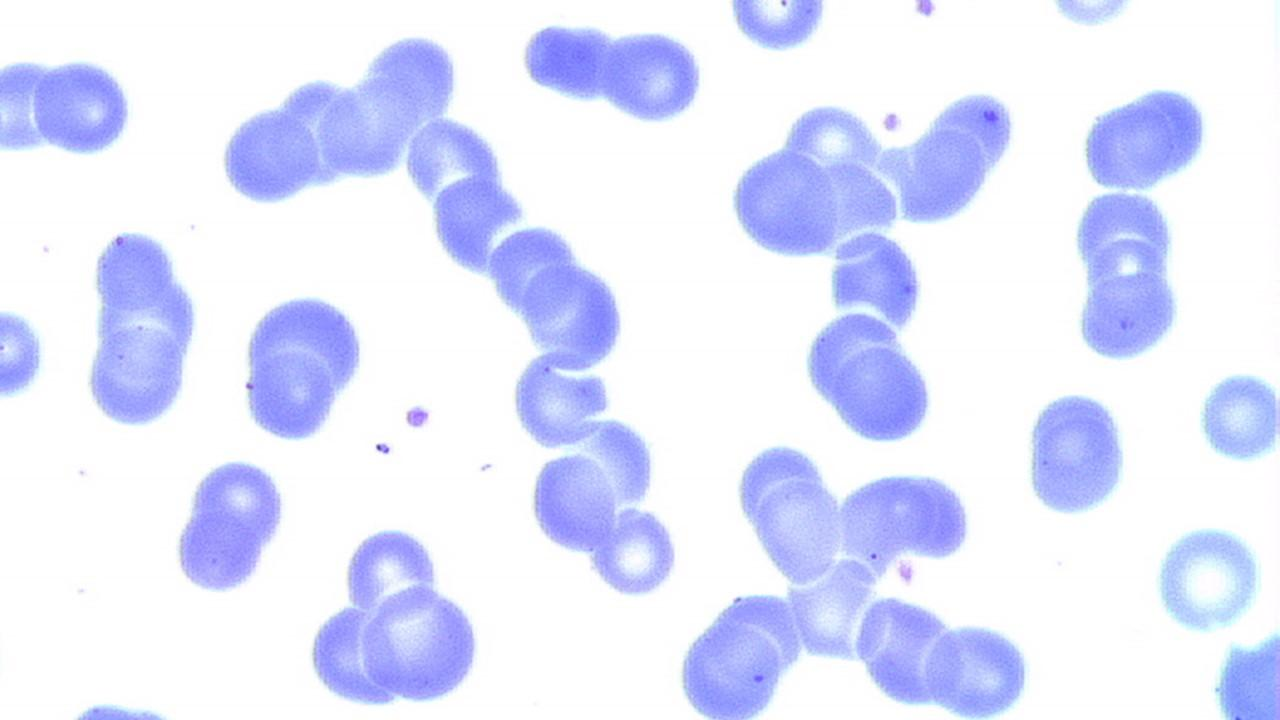Platelets: (0, 305, 48, 403), (1040, 1, 1138, 31), (57, 694, 168, 718), (400, 400, 434, 433), (910, 0, 942, 23), (880, 107, 904, 136), (374, 441, 395, 456)
WBC: (46, 30, 683, 720), (650, 432, 1060, 720), (502, 345, 692, 608), (292, 513, 494, 718), (81, 222, 210, 432), (1067, 182, 1189, 369), (235, 287, 370, 448), (800, 308, 946, 447), (876, 606, 1048, 718), (169, 448, 292, 599), (721, 129, 842, 269), (1019, 385, 1135, 526), (1074, 82, 1216, 197), (1149, 517, 1271, 637), (22, 51, 142, 162), (597, 26, 707, 129), (824, 225, 928, 333), (515, 13, 617, 111), (1195, 366, 1279, 466), (1, 51, 70, 159), (1206, 618, 1280, 716), (722, 1, 834, 58), (1035, 0, 1149, 31), (61, 692, 183, 719)
